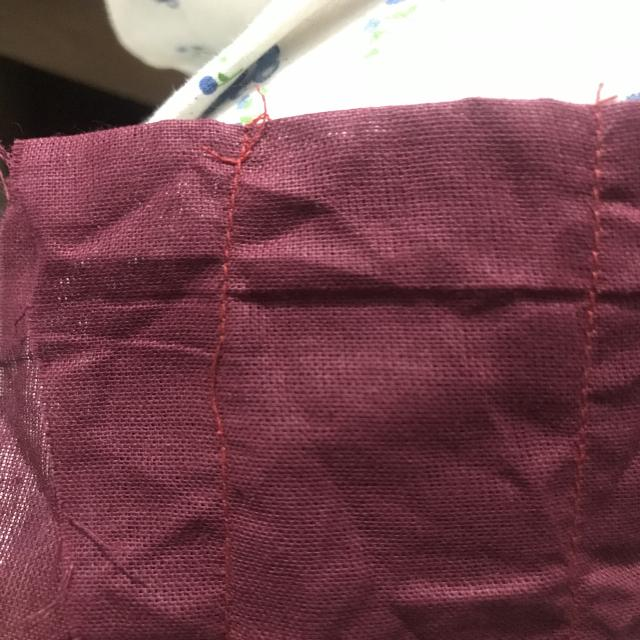good: (203, 208, 246, 286)
skip: (190, 332, 254, 434)
